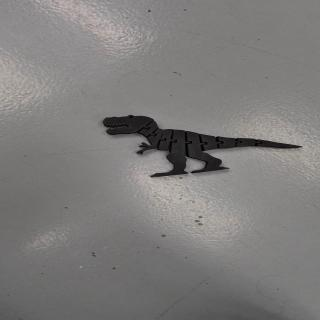dino: (102, 114, 304, 178)
